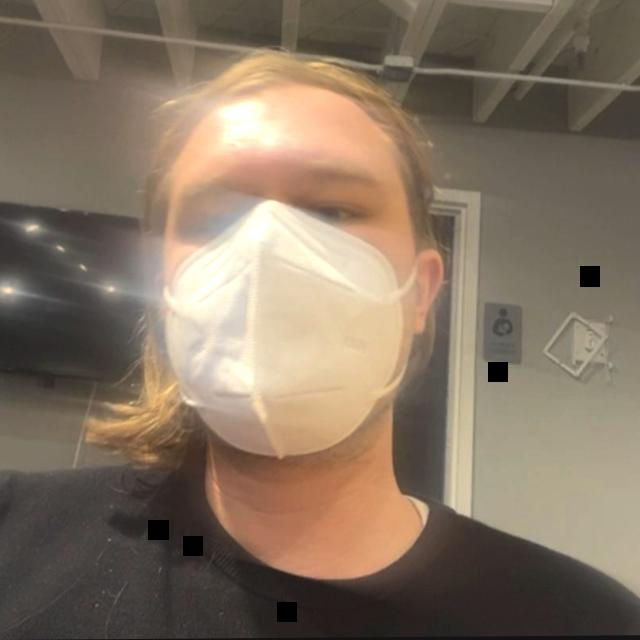Mask: (80, 39, 499, 603)
